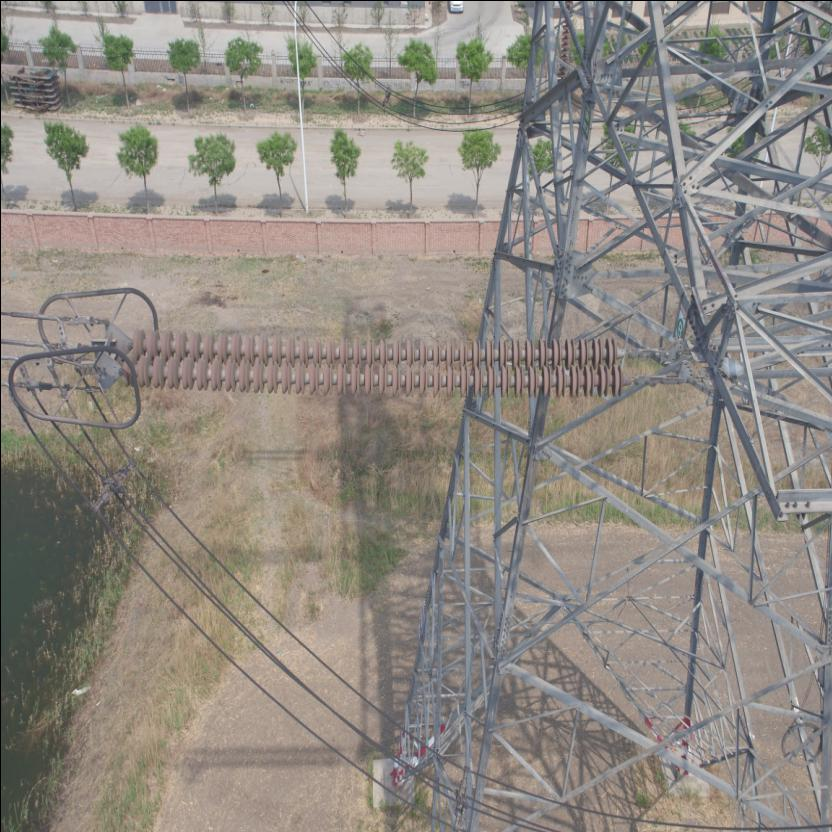insulator: (107, 324, 655, 398)
